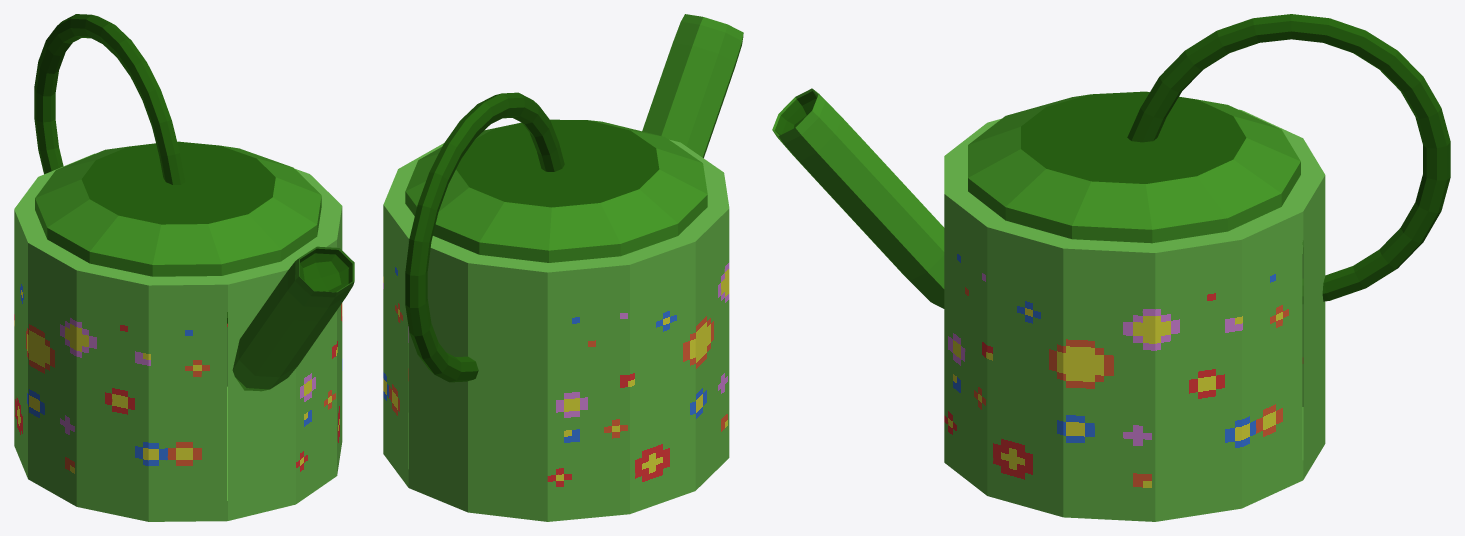
Rendered from Regadera.fbx.
The picture shows the model from 3 angles, left to right: view 1: azimuth 30°, elevation 25°; view 2: azimuth 150°, elevation 25°; view 3: azimuth 270°, elevation 25°; orthographic projection. The views are drawn at different scales.
Parts seen in each view (by area): view 1: Regadera; view 2: Regadera; view 3: Regadera.
Boxes of the visible parts, x1,y1,x2,y2 form: Regadera: [14, 14, 354, 521]; Regadera: [383, 14, 743, 521]; Regadera: [772, 14, 1450, 521].
Size of the model in its own units: 96.22 by 176 by 123.
Materials: 1 (1 with a texture image).
